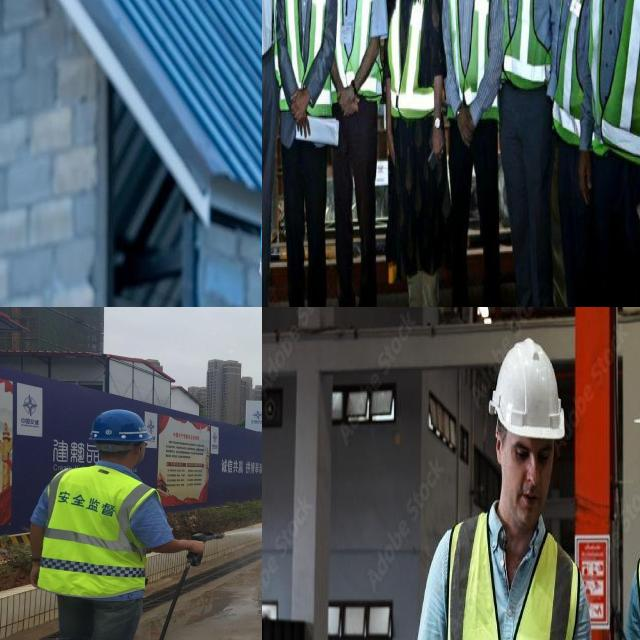hand_noglove: (456, 98, 477, 152), (184, 531, 210, 565), (578, 162, 594, 206), (340, 88, 360, 123), (290, 106, 313, 134), (386, 128, 399, 169), (292, 89, 306, 124), (432, 125, 445, 160)
head_helmet: (488, 339, 567, 442), (80, 408, 156, 444)
person: (400, 326, 607, 640), (35, 406, 153, 640), (273, 0, 332, 307), (328, 0, 387, 307), (495, 0, 552, 307), (381, 0, 437, 307), (442, 0, 497, 307), (587, 0, 640, 307), (549, 0, 602, 307)
vest: (434, 504, 585, 640), (38, 469, 158, 601), (592, 0, 640, 161), (385, 0, 435, 113), (555, 0, 592, 141), (447, 0, 494, 109), (280, 0, 331, 87), (498, 0, 548, 81), (335, 0, 377, 81)
